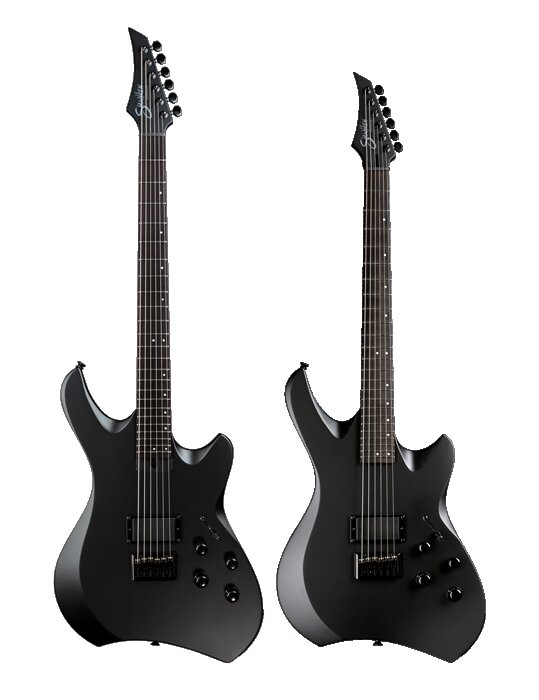ElectricGuitar: (43, 26, 274, 671), (283, 30, 493, 679)
